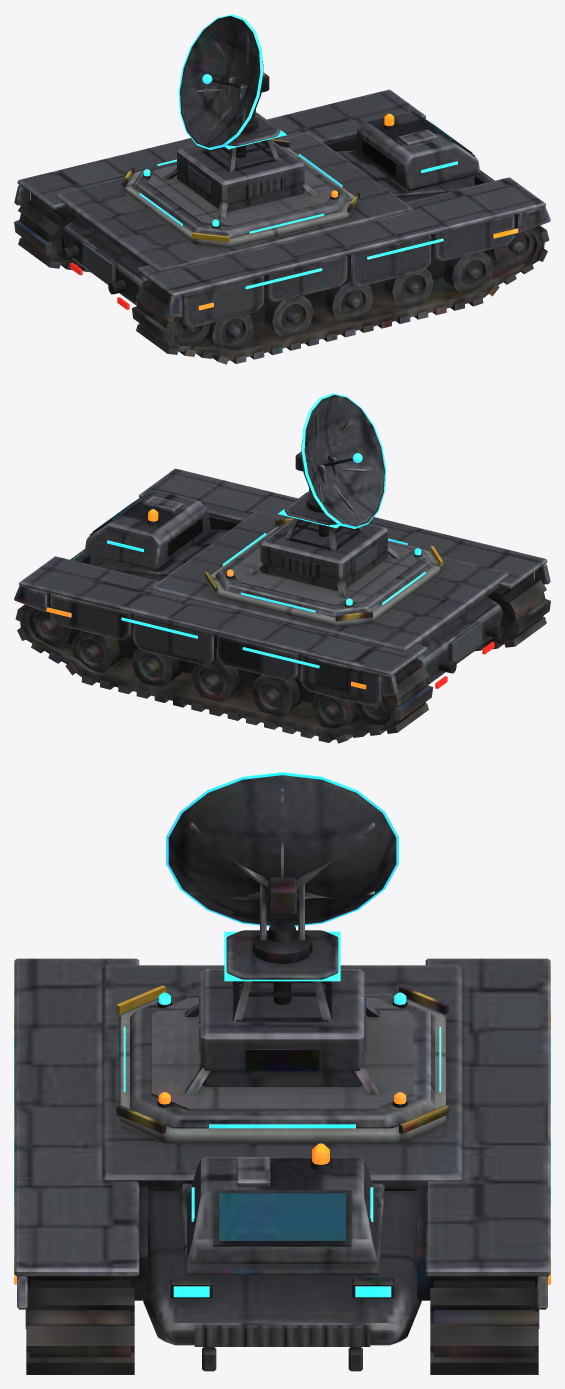
The model's file is radar_tower_packed.glb.
3 renders of one model, top to bottom at view 1: azimuth 30°, elevation 25°; view 2: azimuth 150°, elevation 25°; view 3: azimuth 270°, elevation 25°, orthographic. The views are drawn at different scales.
Visible parts, largest first — view 1: Hull; view 2: Hull; view 3: Hull.
Part boxes in pixels (x1,y1,x2,y2): Hull: (14, 14, 550, 364); Hull: (14, 393, 550, 743); Hull: (14, 772, 550, 1374).
Size of the model in its own units: 6.54 by 4.25 by 4.47.
1 material, 1 textured.
